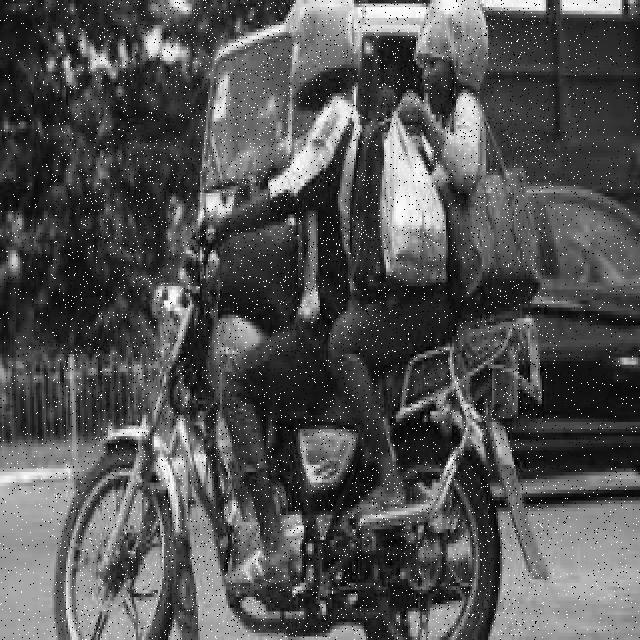Motorbike: (53, 0, 549, 640)
